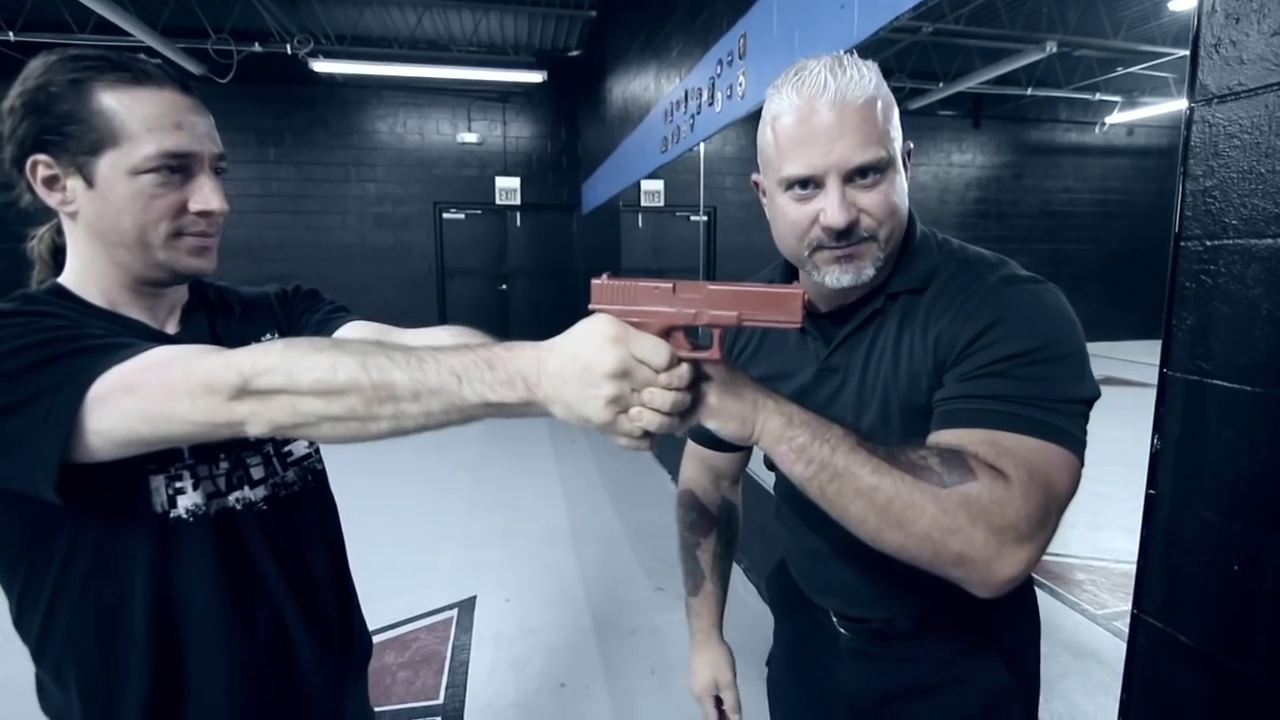pistol: (587, 270, 812, 364)
